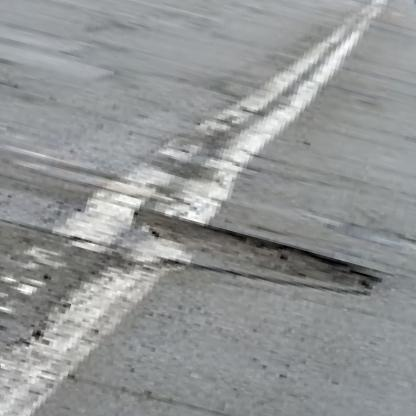pothole: (122, 204, 387, 310)
